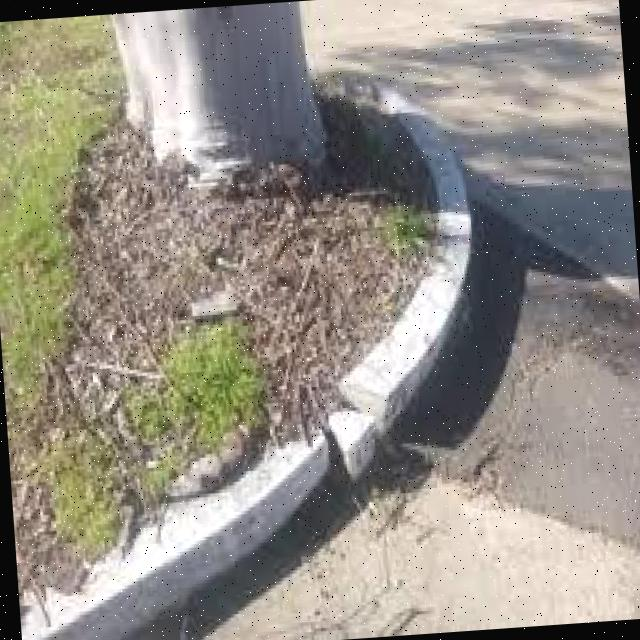curb: (170, 390, 368, 588), (384, 88, 495, 324), (15, 520, 168, 640), (356, 309, 460, 469)
